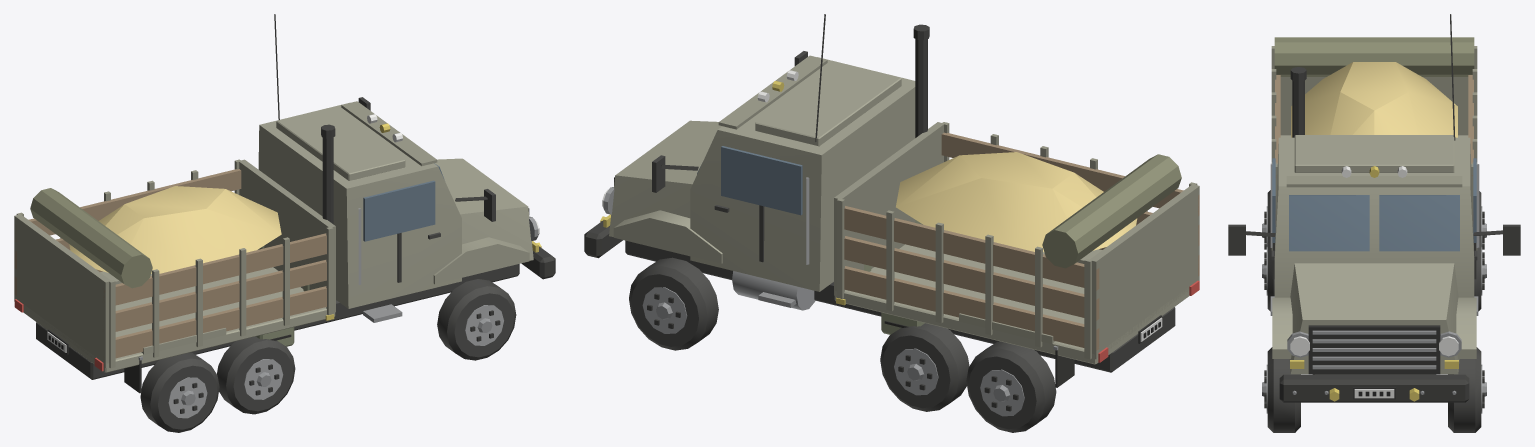
Rendered from graintruck.glb.
3 renders of one model, left to right at view 1: azimuth 30°, elevation 25°; view 2: azimuth 150°, elevation 25°; view 3: azimuth 270°, elevation 25°, orthographic. The views are drawn at different scales.
Visible parts, largest first — view 1: hull, load; view 2: hull, load; view 3: hull, load.
Boxes of the visible parts, x1,y1,x2,y2 form: hull: [14, 14, 555, 432]; load: [69, 186, 281, 273]; hull: [584, 14, 1199, 432]; load: [896, 152, 1137, 252]; hull: [1228, 14, 1520, 432]; load: [1291, 62, 1457, 137].
Size of the model in its own units: 7.37 by 4.79 by 3.66.
